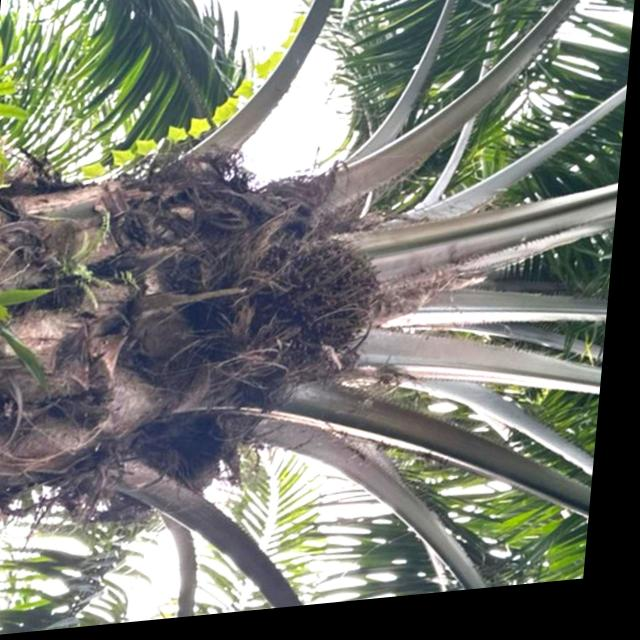ripe: (264, 234, 400, 397)
